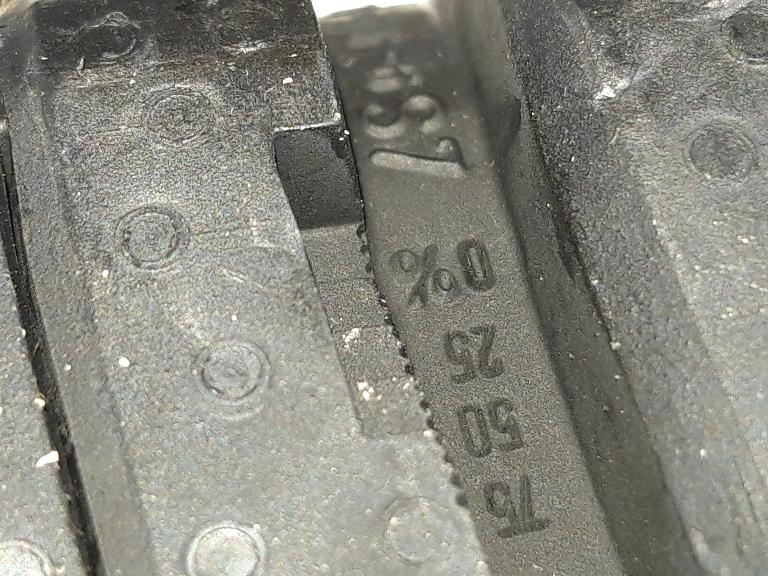temoin:100: (268, 115, 481, 520)
